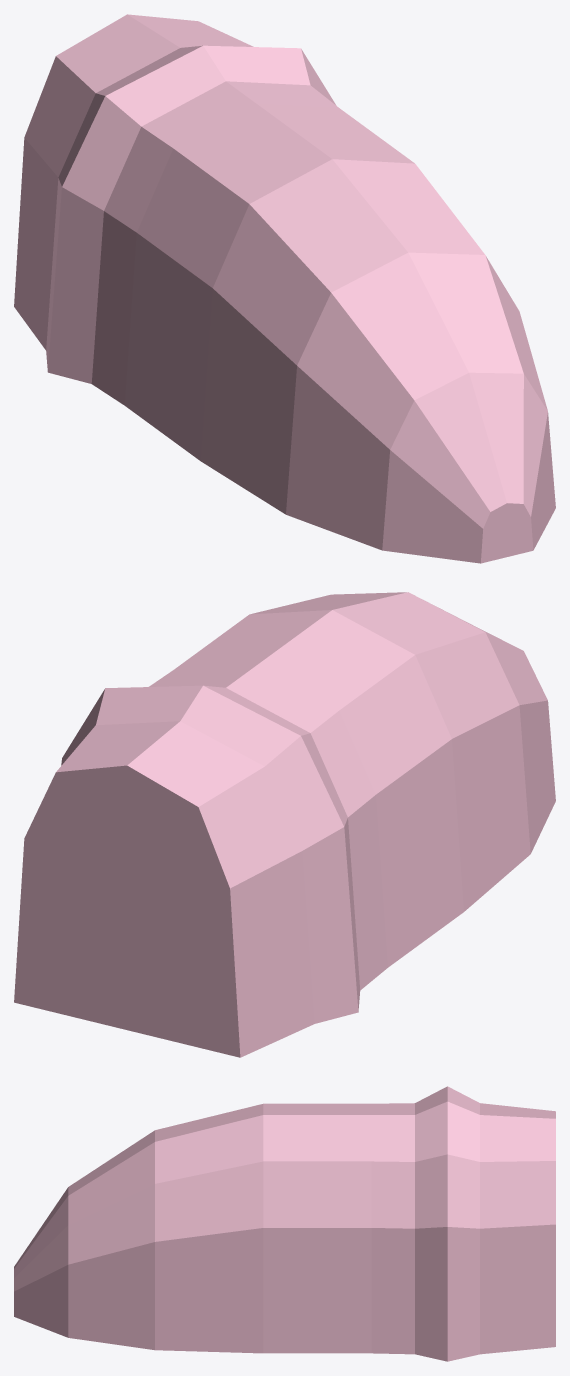
File: SM_Crew_Feet_Slipper_R.fbx
3 views of the same model, one above another, from view 1: azimuth 30°, elevation 25°; view 2: azimuth 150°, elevation 25°; view 3: azimuth 270°, elevation 25° (orthographic). The views are drawn at different scales.
Parts seen in each view (by area): view 1: SM_Crew_Feet_Slipper_R; view 2: SM_Crew_Feet_Slipper_R; view 3: SM_Crew_Feet_Slipper_R.
Part boxes in pixels (bbox=[...]): SM_Crew_Feet_Slipper_R: bbox=[14, 14, 555, 563]; SM_Crew_Feet_Slipper_R: bbox=[14, 592, 555, 1057]; SM_Crew_Feet_Slipper_R: bbox=[14, 1086, 555, 1361].
Size of the model in its own units: 0.2037 by 0.181 by 0.4314.
